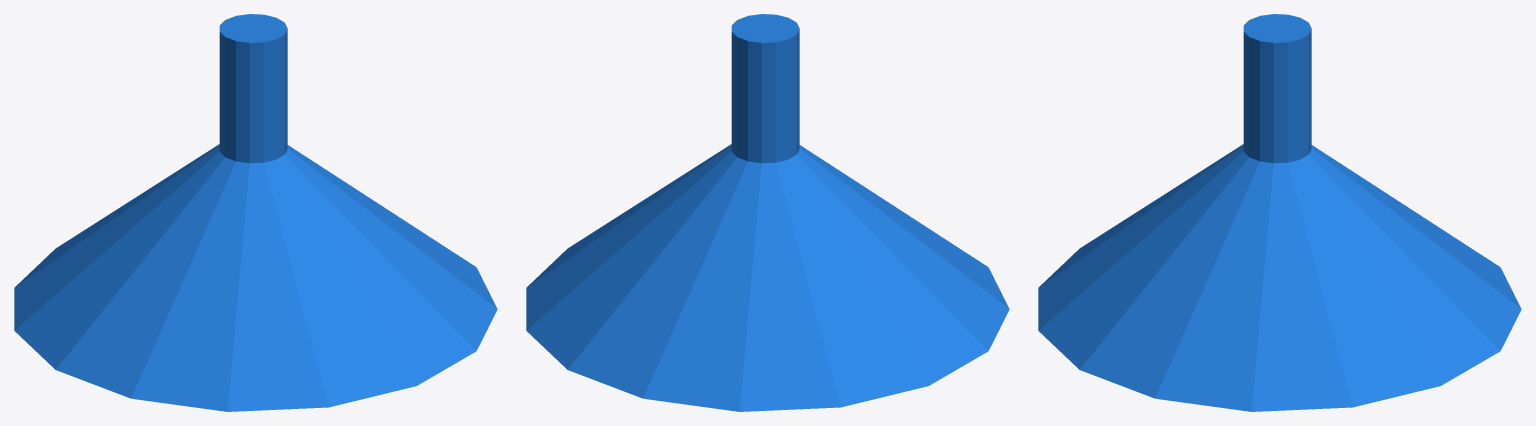
Rendered from Lamp.fbx.
The picture shows the model from 3 angles, left to right: view 1: azimuth 30°, elevation 25°; view 2: azimuth 150°, elevation 25°; view 3: azimuth 270°, elevation 25°; orthographic projection.
Visible parts, largest first — view 1: Lamp; view 2: Lamp; view 3: Lamp.
Part boxes in pixels (x1,y1,x2,y2): Lamp: (14, 14, 497, 411); Lamp: (526, 14, 1009, 411); Lamp: (1038, 14, 1521, 411).
Size of the model in its own units: 61.44 by 39.16 by 61.11.
